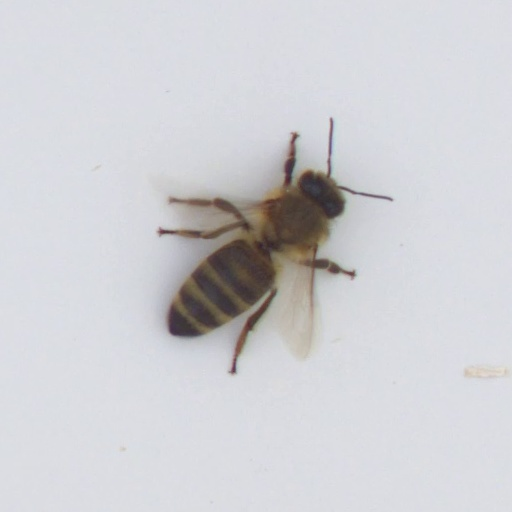Bee: (144, 162, 363, 358)
Thorax: (260, 188, 335, 254)
